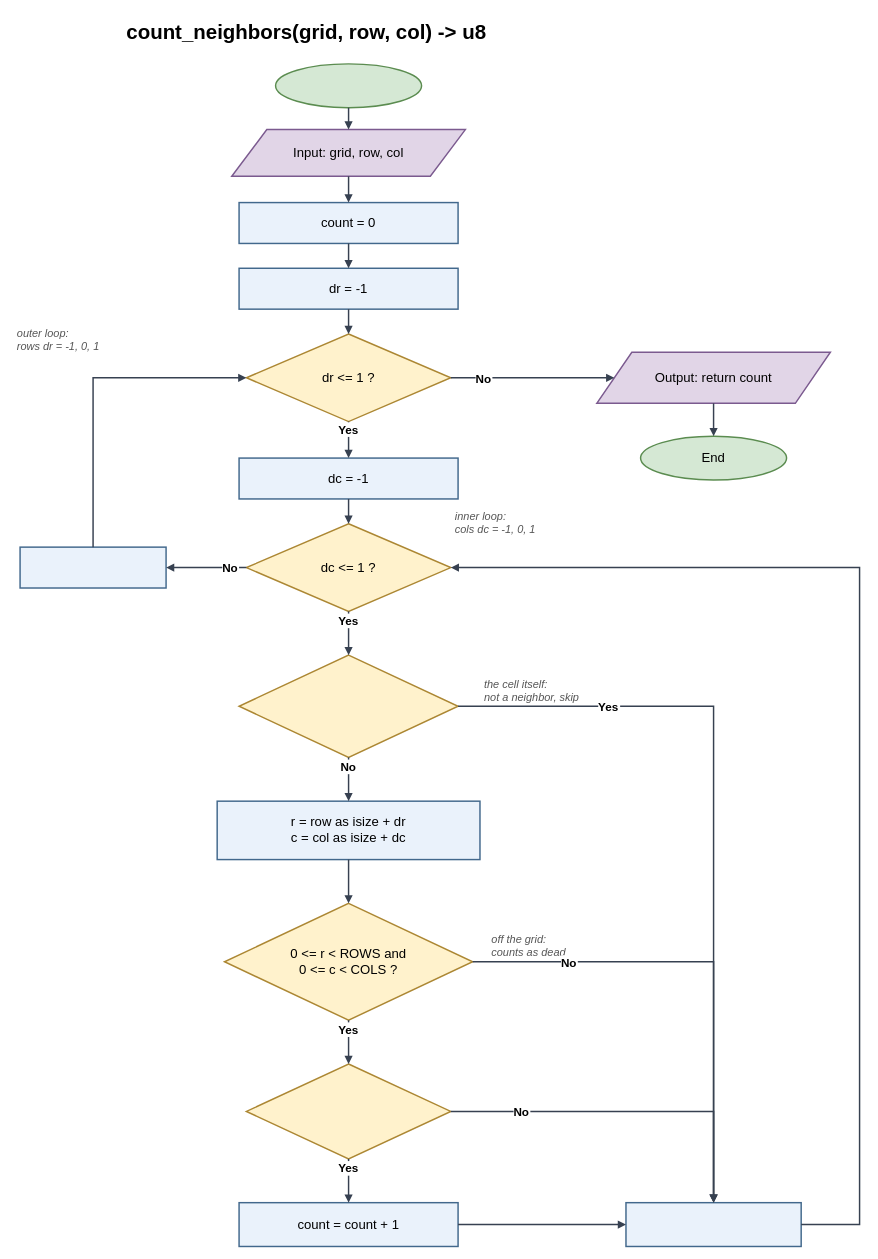
This 878x1259 diagram has some shape labels left out. Each missing label, with the centre of its shape:
dc = dc + 1: the point at 713,1224
dr = dr + 1: the point at 92,567
dr == 0 and dc == 0 ?: the point at 348,706
grid[r][c] is alive ?: the point at 348,1111
Start: the point at 348,85
